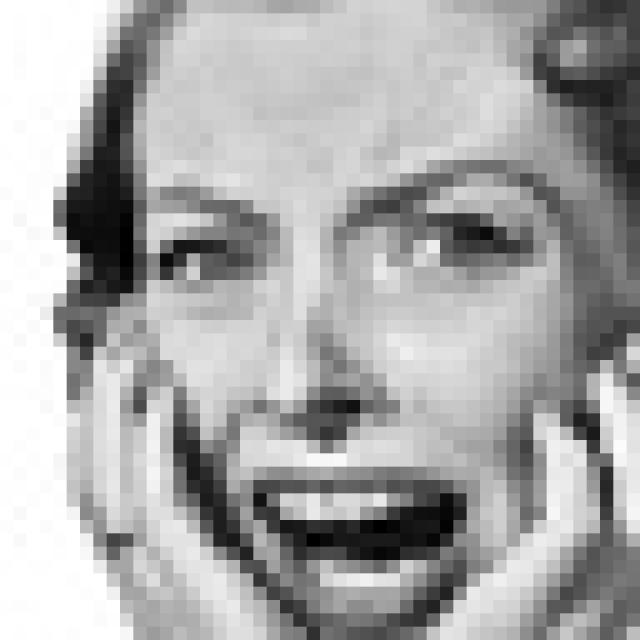fear: (142, 149, 594, 640)
